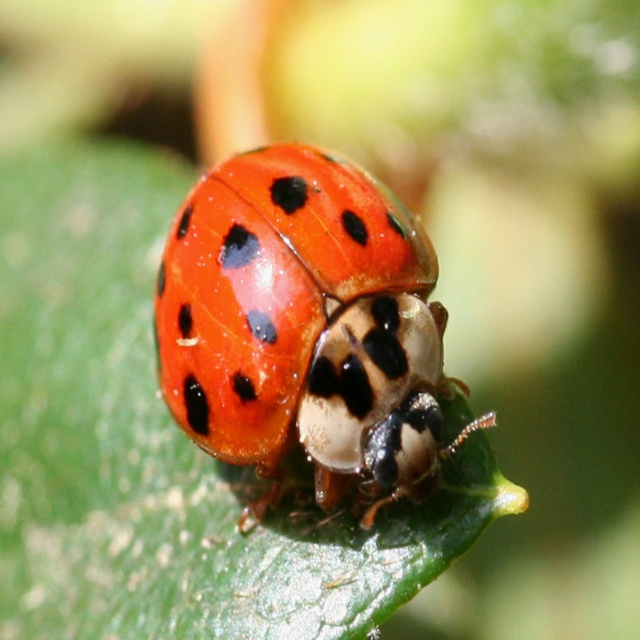Ladybug: (154, 138, 497, 533)
